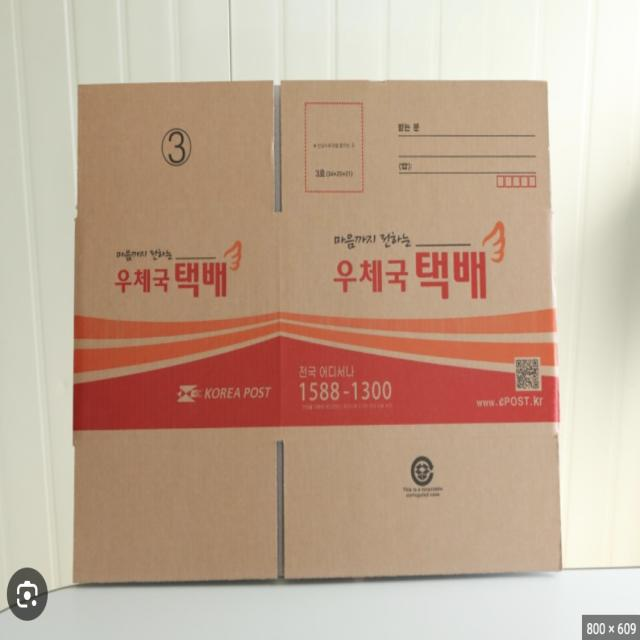biodegradable: (58, 37, 584, 613)
